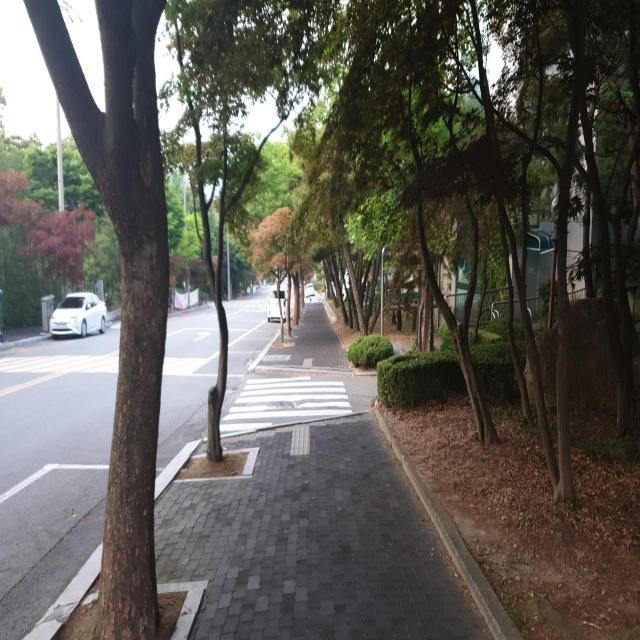횡단보도: (219, 374, 353, 434)
